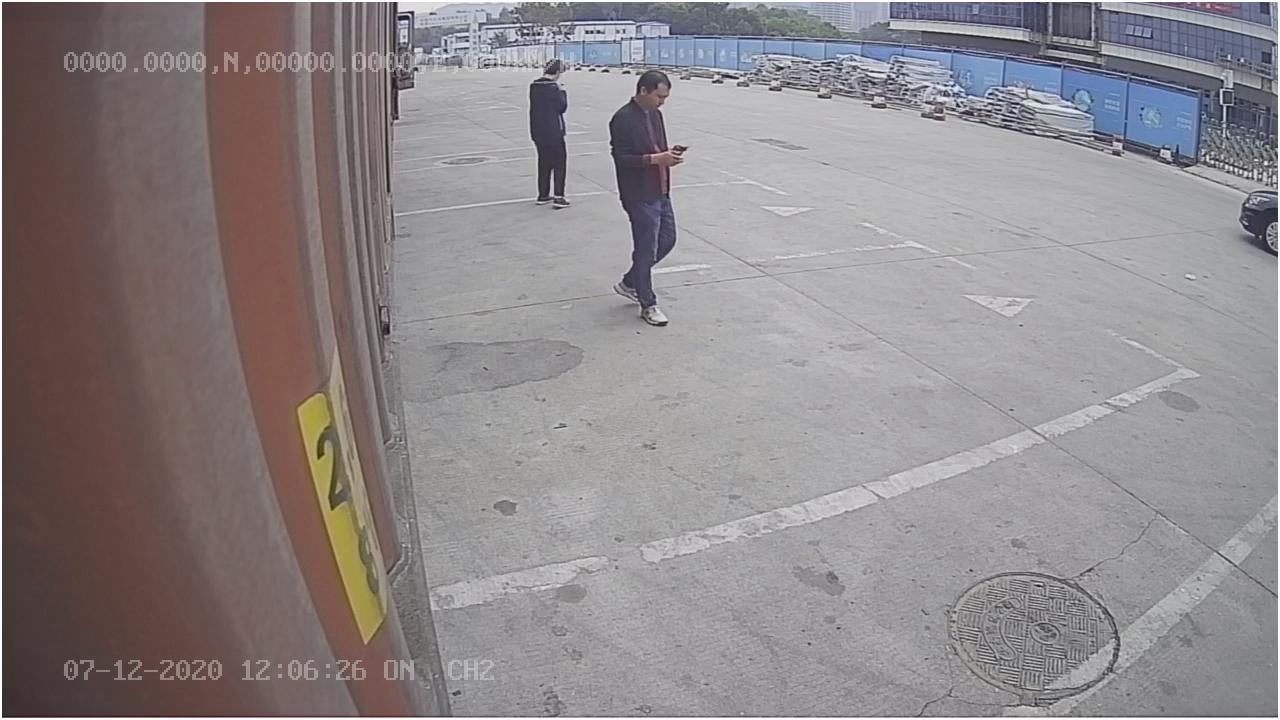person: (607, 69, 680, 323)
